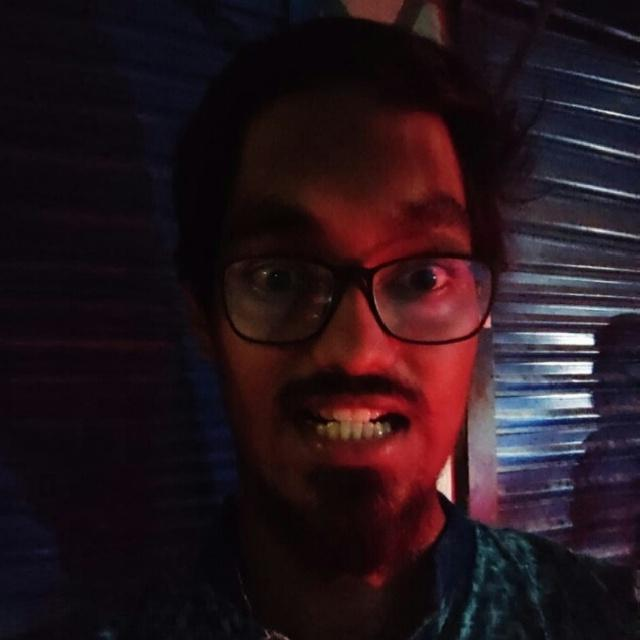angry: (177, 35, 519, 558)
